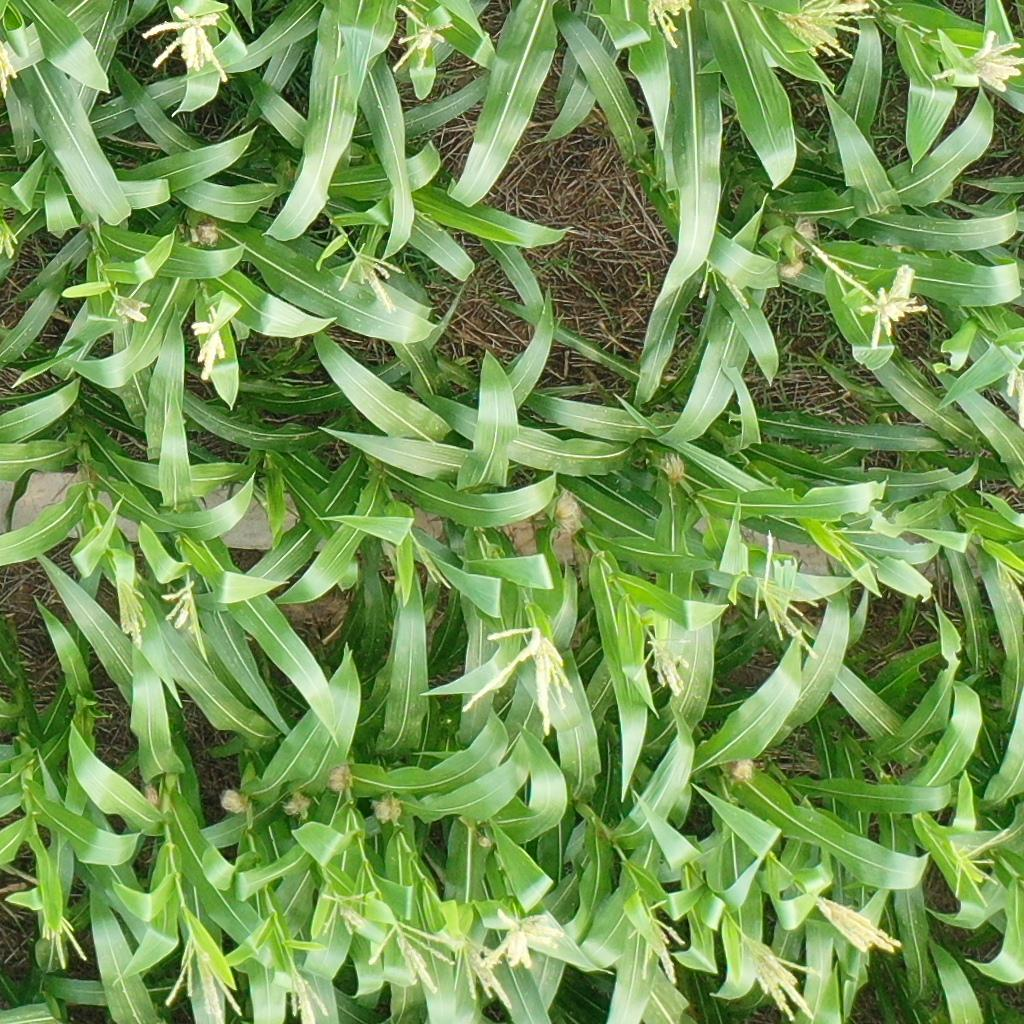Tassel: (456, 625, 574, 742), (812, 242, 929, 353), (748, 527, 822, 655), (733, 929, 826, 1024), (161, 929, 241, 1024), (140, 3, 232, 82), (366, 916, 458, 993), (774, 1, 876, 65), (478, 902, 567, 970), (941, 824, 1013, 908), (935, 28, 1024, 95), (812, 893, 903, 958), (448, 933, 513, 1011), (625, 630, 696, 700), (337, 240, 404, 310), (392, 6, 454, 73), (634, 913, 684, 989), (283, 953, 330, 1024), (828, 524, 883, 578), (36, 915, 86, 973), (319, 889, 371, 941), (696, 260, 748, 311), (191, 321, 232, 381), (646, 1, 695, 51), (156, 581, 200, 636), (113, 579, 147, 648), (414, 537, 453, 592), (990, 556, 1024, 614), (105, 292, 152, 323), (1003, 362, 1024, 428), (1, 42, 17, 97), (1, 221, 20, 258)
